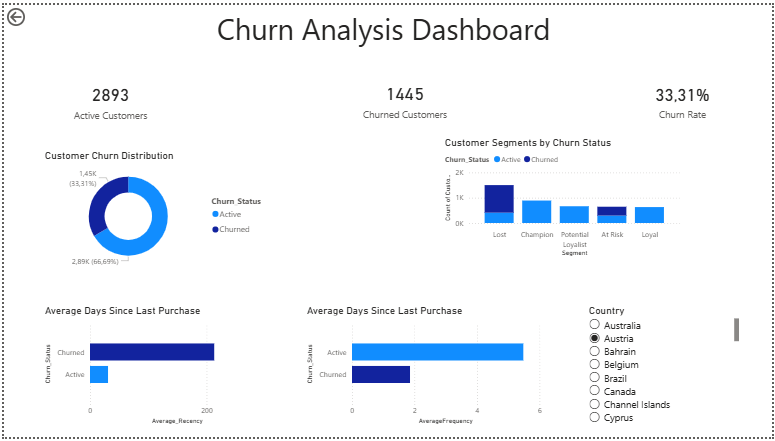

The page's visual inventory and layout, read from the dashboard file:
{"tool":"powerbi","page":{"name":"Page 3","canvas":[1280,720],"ordinal":2},"visuals":[{"type":"textbox","box":[350,1.7,578.3,96.7],"z":0},{"type":"card","fields":{"Values":["customer_segments.Active Customers"]},"box":[21.7,78.3,311.7,161.7],"z":1000},{"type":"card","fields":{"Values":["customer_segments.Churned Customers"]},"box":[521.7,75,293.3,165],"z":2000},{"type":"card","fields":{"Values":["customer_segments.Churn Rate"]},"box":[993.3,83.3,275,150],"z":3000},{"type":"donutChart","title":"Customer Churn Distribution","fields":{"Category":["customer_segments.Churn_Status","customer_segments.Churn"],"Y":["CountNonNull(customer_segments.CustomerID)"]},"box":[63.3,240,386.7,205],"z":4000},{"type":"columnChart","title":"Customer Segments by Churn Status","fields":{"Category":["customer_segments.Segment"],"Y":["CountNonNull(customer_segments.CustomerID)"],"Series":["customer_segments.Churn_Status"]},"box":[730,218.3,401.7,205],"z":5000},{"type":"clusteredBarChart","title":"Average Days Since Last Purchase","fields":{"Category":["customer_segments.Churn_Status","customer_segments.Churn"],"Y":["customer_segments.Average_Recency"]},"box":[63.3,498.3,386.7,205],"z":6000},{"type":"clusteredBarChart","title":"Average Days Since Last Purchase","fields":{"Category":["customer_segments.Churn_Status"],"Y":["customer_segments.AverageFrequency"]},"box":[500,498.3,401.7,205],"z":7000},{"type":"actionButton","box":[0,0,100,40],"z":7001},{"type":"listSlicer","fields":{"Values":["retail_transactions_clean.Country"]},"box":[970,498.3,260,205],"z":7002}]}

Visuals, with their boxes in screenshot pixels (x1, y1, x2, y2), scaled from the page's 1280x720 canvas onto the 775x441 screenshot:
textbox: 212/1/562/60
card - customer_segments.Active Customers: 13/48/202/147
card - customer_segments.Churned Customers: 316/46/493/147
card - customer_segments.Churn Rate: 601/51/768/143
"Customer Churn Distribution" donutChart: 38/147/272/273
"Customer Segments by Churn Status" columnChart: 442/134/685/259
"Average Days Since Last Purchase" clusteredBarChart: 38/305/272/431
"Average Days Since Last Purchase" clusteredBarChart: 303/305/546/431
actionButton: 0/0/61/24
listSlicer - retail_transactions_clean.Country: 587/305/745/431
